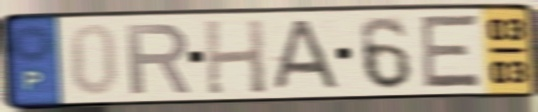0: (65, 22, 122, 99)
6: (356, 14, 415, 93)
A: (265, 18, 344, 92)
E: (419, 12, 484, 91)
H: (201, 17, 269, 97)
R: (123, 21, 194, 97)
